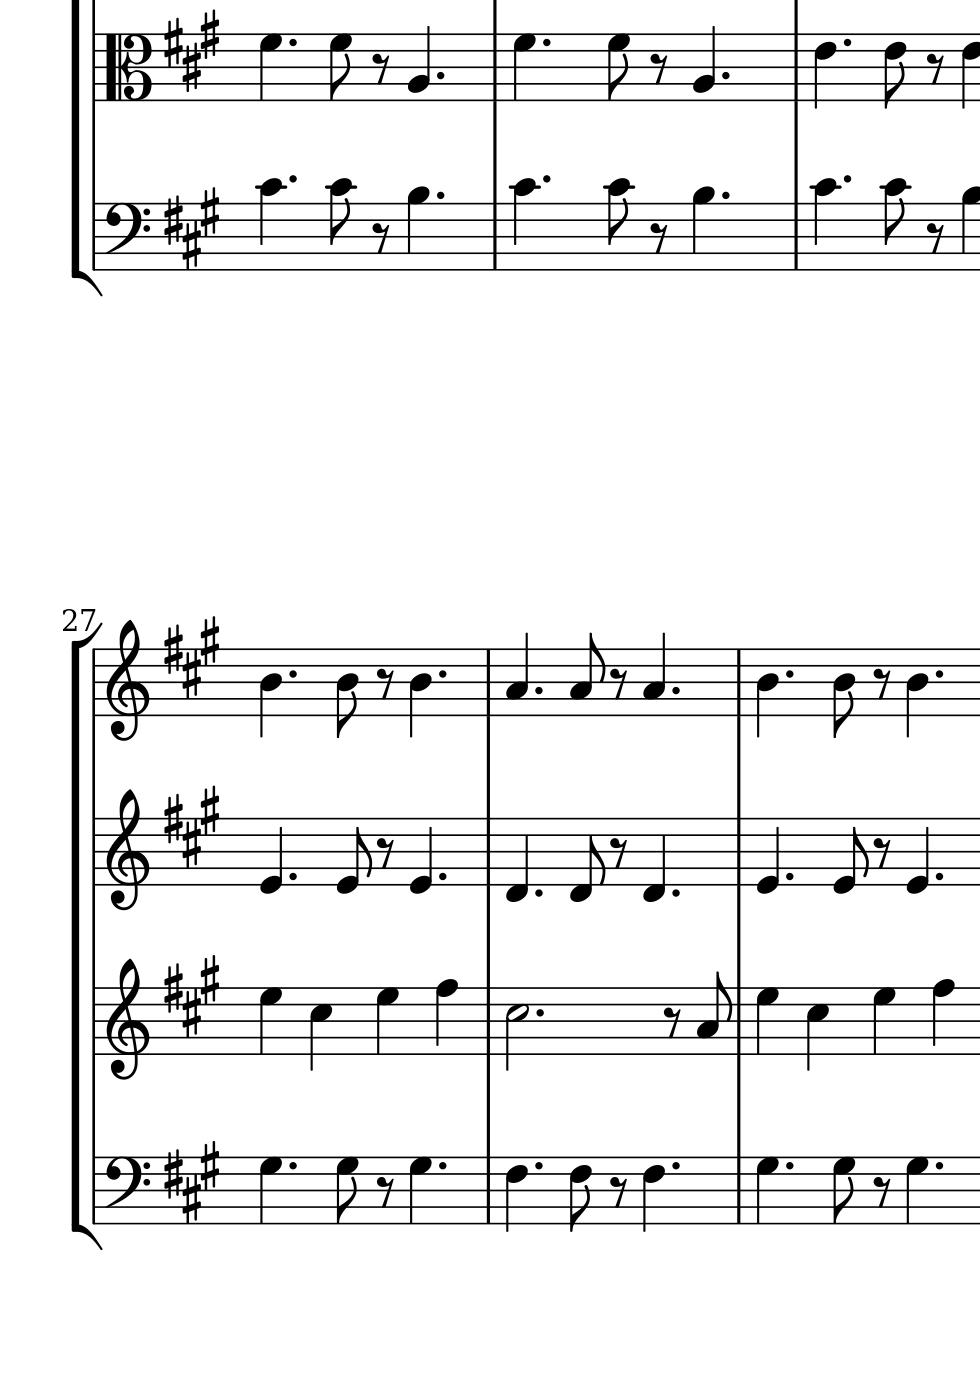2: (60, 607, 78, 634)
2_5: (502, 985, 531, 1073)
4_-1: (503, 815, 530, 905), (640, 815, 666, 905)
4_0: (753, 815, 783, 895), (257, 815, 285, 896), (407, 815, 435, 896), (904, 815, 931, 896)
4_10: (253, 175, 284, 273), (809, 176, 840, 273), (509, 177, 540, 271)
4_2: (690, 23, 718, 104), (406, 24, 433, 103)
4_3: (640, 631, 668, 718), (504, 631, 530, 718)
4_4: (903, 647, 930, 740), (406, 647, 433, 740), (257, 646, 282, 740), (754, 647, 778, 740)
4_5: (803, 986, 829, 1074), (307, 985, 333, 1072)
4_6: (502, 1155, 530, 1233), (640, 1155, 666, 1234), (811, 31, 837, 111)
4_7: (256, 31, 284, 104), (903, 1154, 930, 1226), (752, 984, 780, 1055), (870, 986, 897, 1057), (373, 986, 401, 1056), (257, 1155, 284, 1225), (257, 986, 284, 1055), (511, 31, 537, 105), (407, 1155, 433, 1225), (753, 1155, 778, 1225)
4_8: (432, 978, 459, 1055), (929, 977, 955, 1057)
4_9: (404, 185, 433, 273), (689, 185, 718, 273), (958, 185, 980, 274)
7: (78, 606, 97, 633)
8_-1: (567, 815, 603, 903)
8_0: (830, 815, 867, 897), (334, 815, 370, 896)
8_10: (323, 176, 356, 273), (878, 176, 911, 273), (603, 176, 634, 273)
8_3: (695, 970, 733, 1056), (568, 632, 603, 718)
8_4: (829, 646, 857, 740), (332, 646, 358, 739)
8_6: (565, 1154, 593, 1234), (880, 31, 907, 111)
8_7: (326, 31, 354, 103), (603, 31, 632, 102), (830, 1155, 856, 1225), (334, 1155, 358, 1225)
A_S: (161, 955, 220, 1039), (161, 187, 220, 269), (161, 786, 220, 869), (161, 1141, 220, 1223), (160, 12, 217, 94), (161, 616, 218, 698)
Bracke: (69, 620, 103, 1256)
Cclef: (103, 32, 155, 103)
Fclef: (102, 201, 151, 274), (102, 1155, 151, 1227)
Gclef: (103, 787, 152, 914), (103, 957, 152, 1083), (103, 618, 151, 744)
Rests8: (870, 665, 893, 702), (369, 52, 391, 88), (871, 1174, 892, 1211), (647, 52, 669, 87), (648, 220, 670, 255), (924, 220, 946, 255), (373, 666, 395, 702), (374, 836, 396, 872), (660, 1005, 682, 1039), (871, 835, 891, 872), (370, 220, 391, 255), (608, 665, 630, 698), (374, 1174, 395, 1210), (924, 52, 945, 86), (608, 836, 628, 871), (607, 1175, 627, 1210)
Single_barline: (486, 33, 504, 100), (788, 33, 805, 100), (730, 819, 747, 885), (731, 987, 748, 1054), (480, 988, 497, 1054), (788, 203, 804, 269), (480, 819, 496, 885), (487, 204, 503, 269), (731, 650, 747, 716), (480, 650, 496, 715), (731, 1157, 747, 1222), (87, 33, 102, 102), (480, 1158, 496, 1222), (87, 204, 102, 270), (87, 819, 102, 885), (87, 1157, 102, 1224), (87, 649, 101, 716), (87, 988, 101, 1055)
dot: (782, 869, 797, 884), (532, 1005, 546, 1021), (782, 667, 795, 682), (436, 869, 449, 883), (932, 869, 945, 883), (669, 1158, 682, 1173), (840, 36, 853, 50), (539, 173, 552, 187), (433, 190, 447, 203), (718, 190, 732, 203), (285, 668, 299, 681), (932, 668, 946, 681), (532, 684, 545, 698), (669, 684, 682, 698), (532, 885, 545, 899), (532, 1159, 545, 1173), (782, 1159, 794, 1173), (932, 1159, 945, 1173), (540, 35, 552, 50), (286, 869, 298, 883), (434, 69, 447, 82), (285, 173, 298, 186), (436, 1159, 448, 1173), (286, 36, 298, 49), (719, 69, 731, 82), (840, 173, 852, 186), (436, 668, 448, 681), (286, 1159, 298, 1172), (670, 885, 681, 899)
